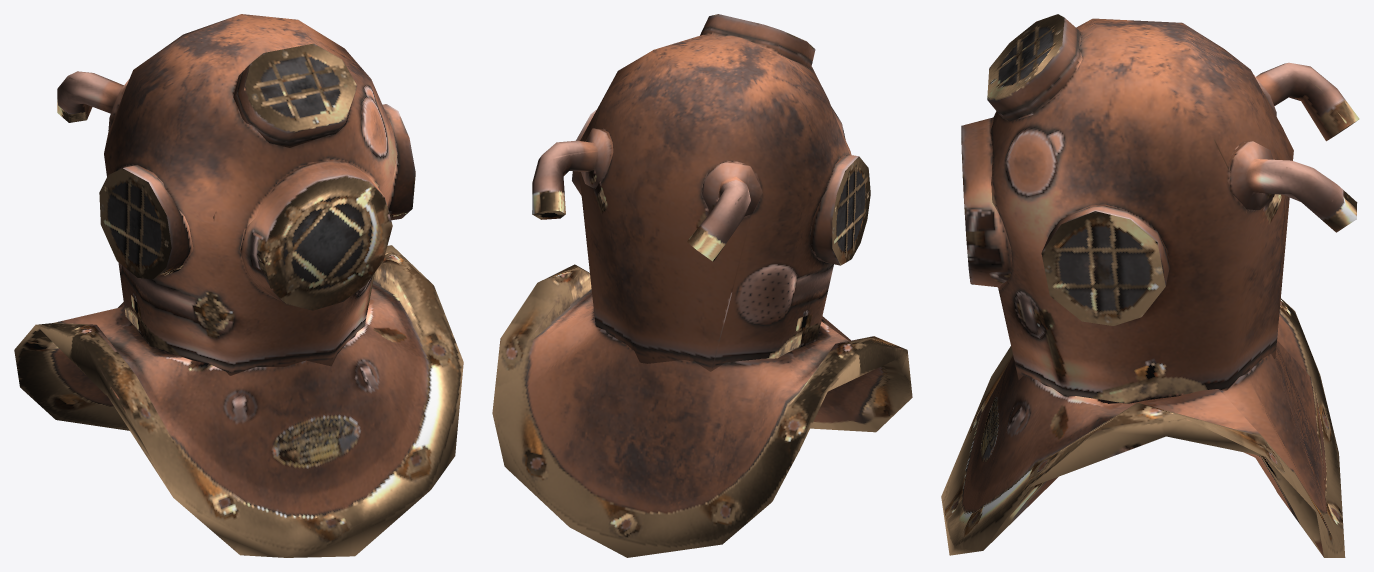
Rendered from collectable_helmet.fbx.
3 views of the same model, side by side, from view 1: azimuth 30°, elevation 25°; view 2: azimuth 150°, elevation 25°; view 3: azimuth 270°, elevation 25° (orthographic). The views are drawn at different scales.
Parts seen in each view (by area): view 1: helmet; view 2: helmet; view 3: helmet.
Part boxes in pixels (box(x1,y1,x2,y2)): helmet: box(14, 14, 463, 557); helmet: box(492, 14, 912, 557); helmet: box(941, 14, 1359, 557).
Size of the model in its own units: 36.11 by 49.21 by 35.77.
Materials: 1 (1 with a texture image).
